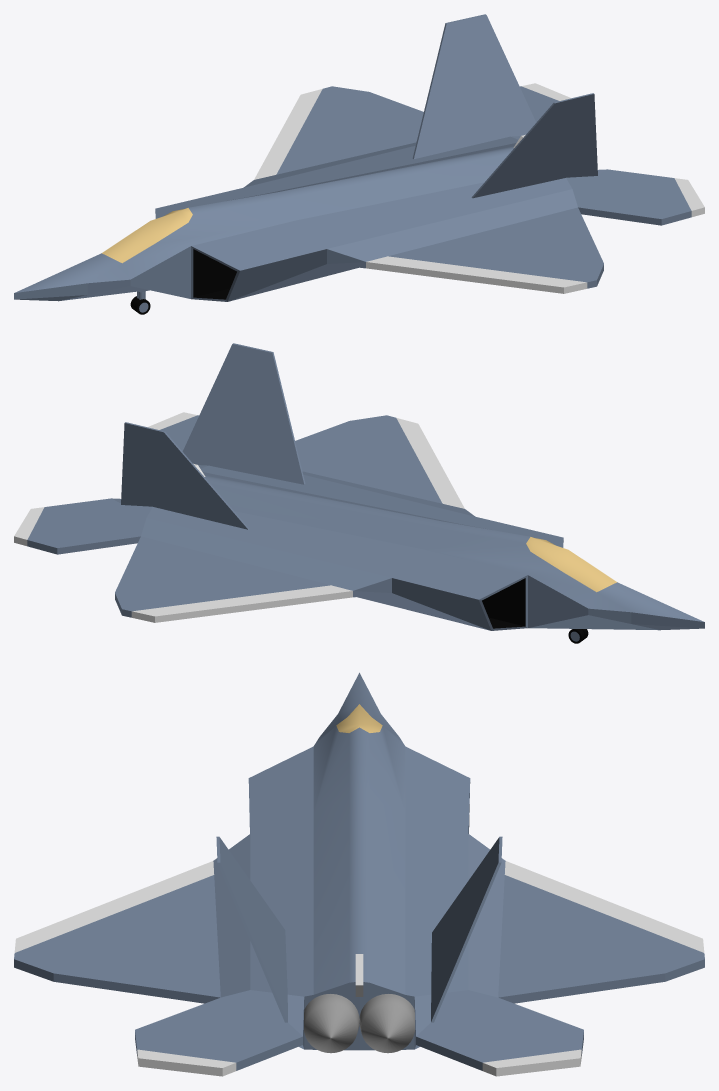
File: aircraft.fbx
3 views of the same model, one above another, from view 1: azimuth 30°, elevation 25°; view 2: azimuth 150°, elevation 25°; view 3: azimuth 270°, elevation 25° (orthographic). The views are drawn at different scales.
Parts seen in each view (by area): view 1: Cylinder; view 2: Cylinder; view 3: Cylinder.
Part boxes in pixels (x1,y1,x2,y2): Cylinder: (14,14,704,314); Cylinder: (14,343,704,643); Cylinder: (14,672,704,1076).
Size of the model in its own units: 1114 by 276 by 822.
